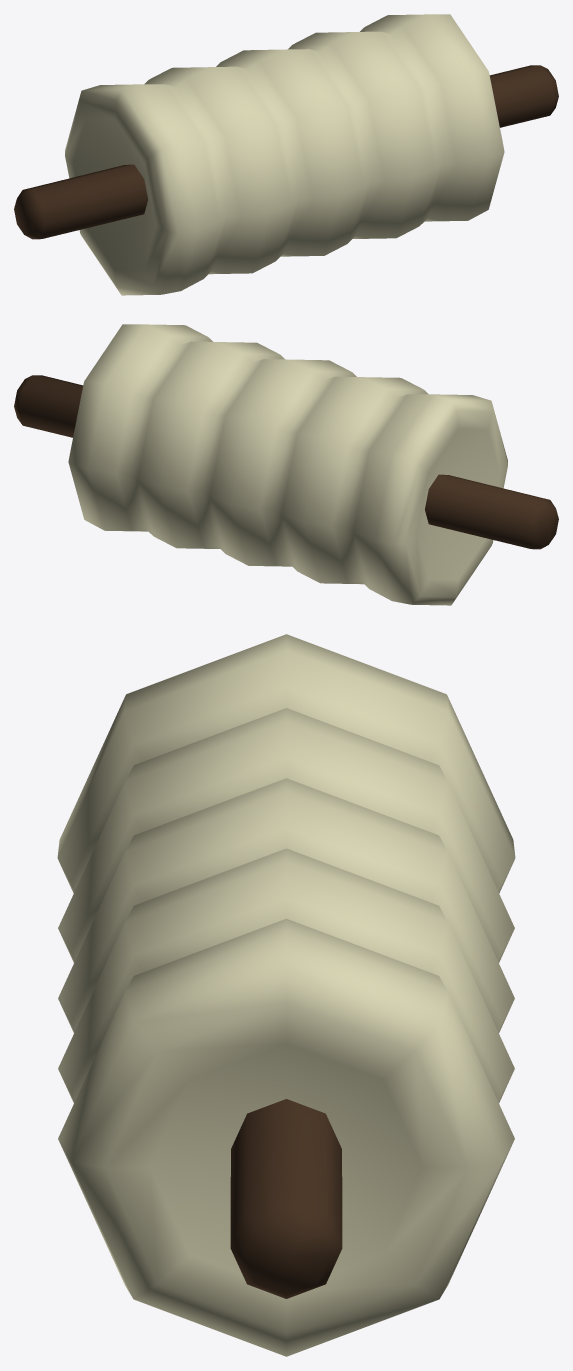
The model's file is Spider_Silk.fbx.
3 views of the same model, one above another, from view 1: azimuth 30°, elevation 25°; view 2: azimuth 150°, elevation 25°; view 3: azimuth 270°, elevation 25° (orthographic). The views are drawn at different scales.
Visible parts, largest first — view 1: wool, spool; view 2: wool, spool; view 3: wool, spool.
Part boxes in pixels (x1,y1,x2,y2): wool: (65,14,504,295); spool: (14,65,558,239); wool: (68,324,507,605); spool: (14,375,558,549); wool: (57,634,515,1356); spool: (230,1099,342,1298).
Size of the model in its own units: 17.94 by 6.79 by 6.79.
